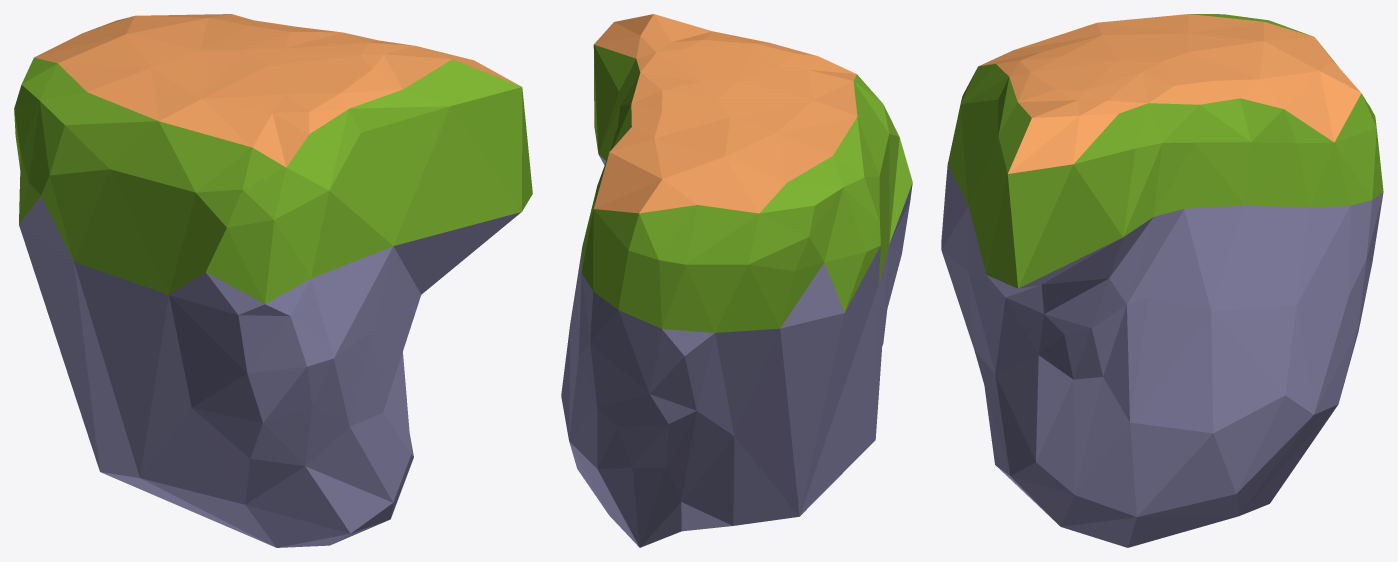
The model's file is Island-004.fbx.
3 renders of one model, left to right at view 1: azimuth 30°, elevation 25°; view 2: azimuth 150°, elevation 25°; view 3: azimuth 270°, elevation 25°, orthographic. The views are drawn at different scales.
Visible parts, largest first — view 1: Island-04; view 2: Island-04; view 3: Island-04.
Boxes of the visible parts, box(x1,y1,x2,y2) form: Island-04: box(14, 14, 532, 547); Island-04: box(561, 14, 912, 547); Island-04: box(941, 14, 1383, 547).
Bounding box in the file's own units: 7607 × 8726 × 7722.
